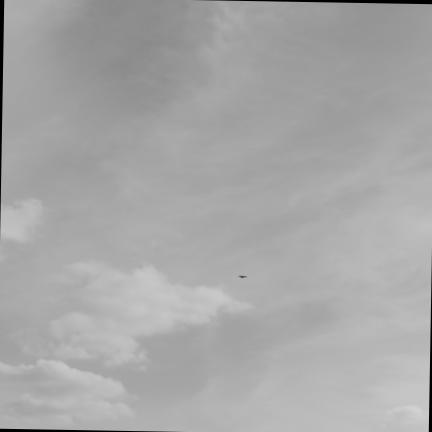Shahed: (239, 275, 247, 277)
